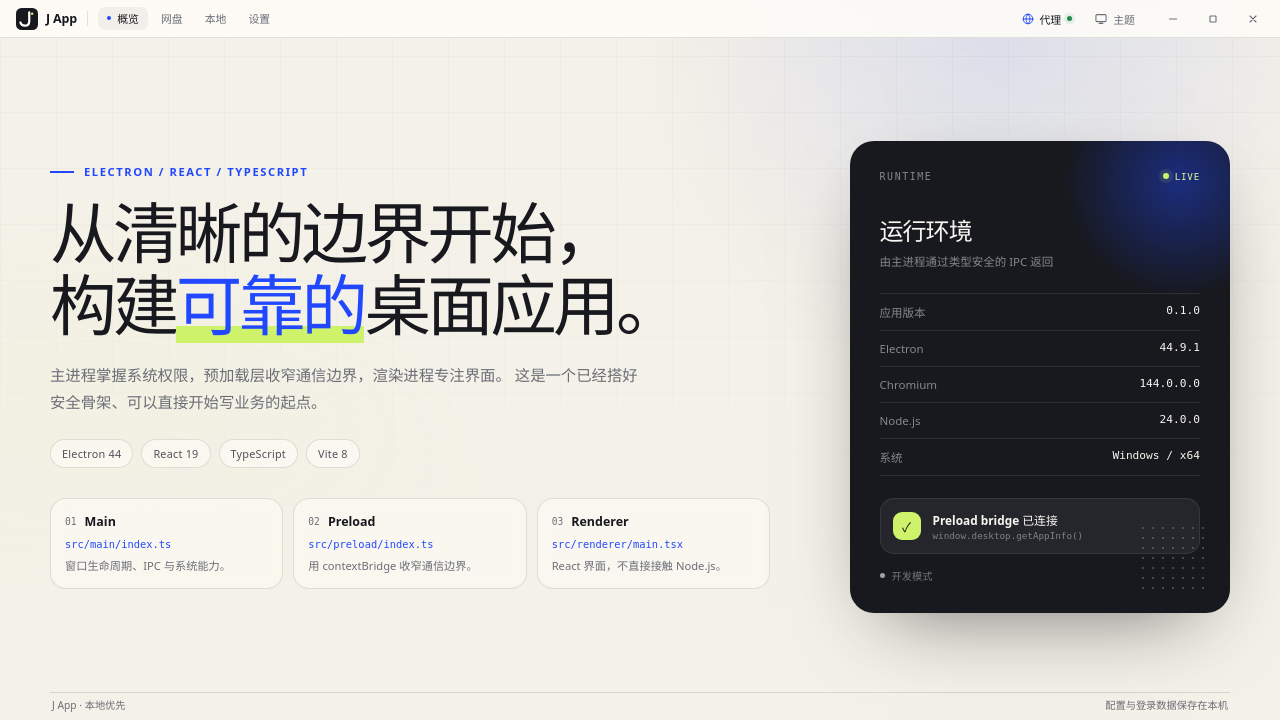
Test: App › lists 115 files and opens a folder on double click
This screenshot has width=1280, height=720.
expect the button with aria-label "网络代理，当前已开启" is shown: met, box 1012,6 -> 1081,32
Click the button "网盘" at (172, 18), box 152,7 -> 192,30
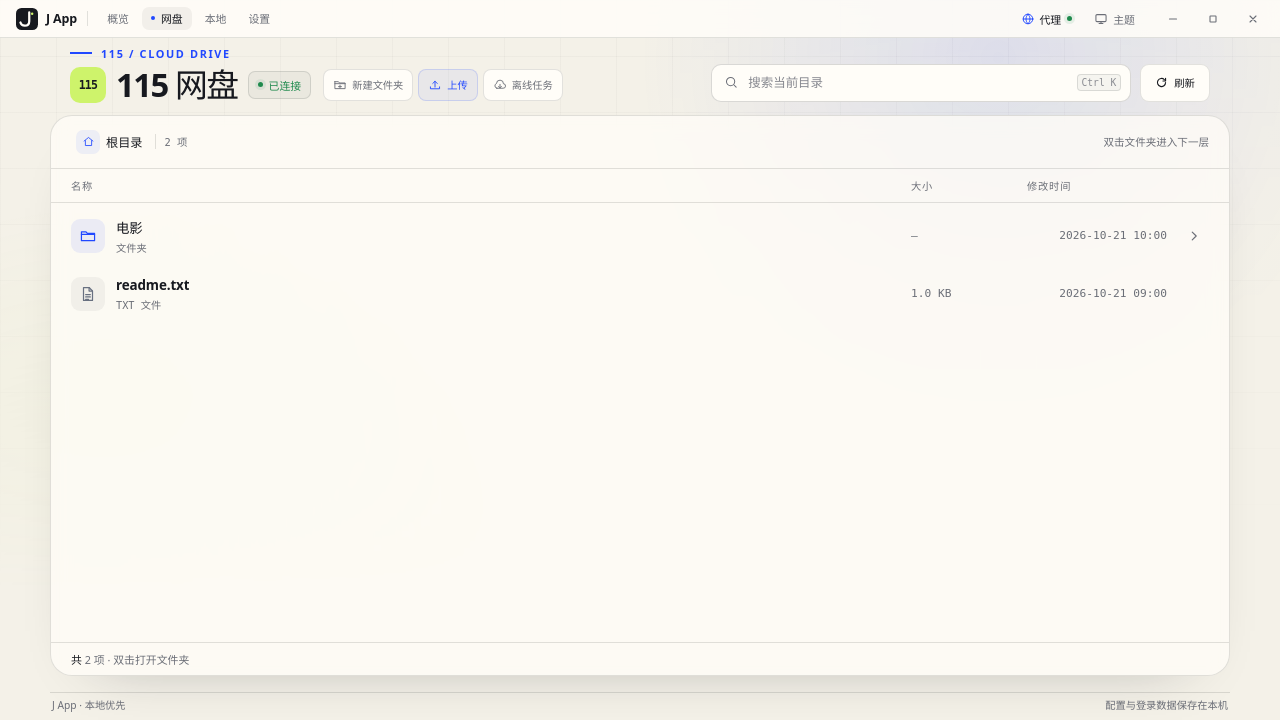
expect the text "电影" is shown: met
Double-click the text "电影" at (131, 227), box 116,217 -> 147,237
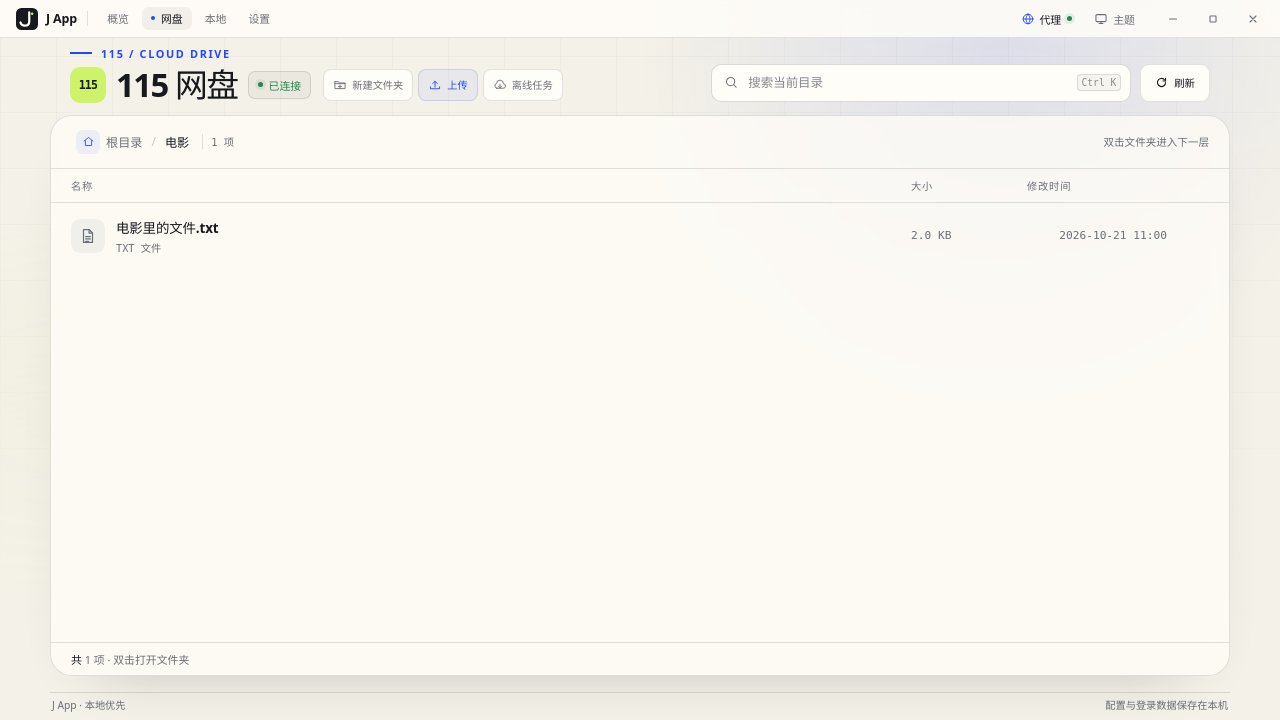
expect the text "电影里的文件.txt" is shown: met, box 116,217 -> 218,237
